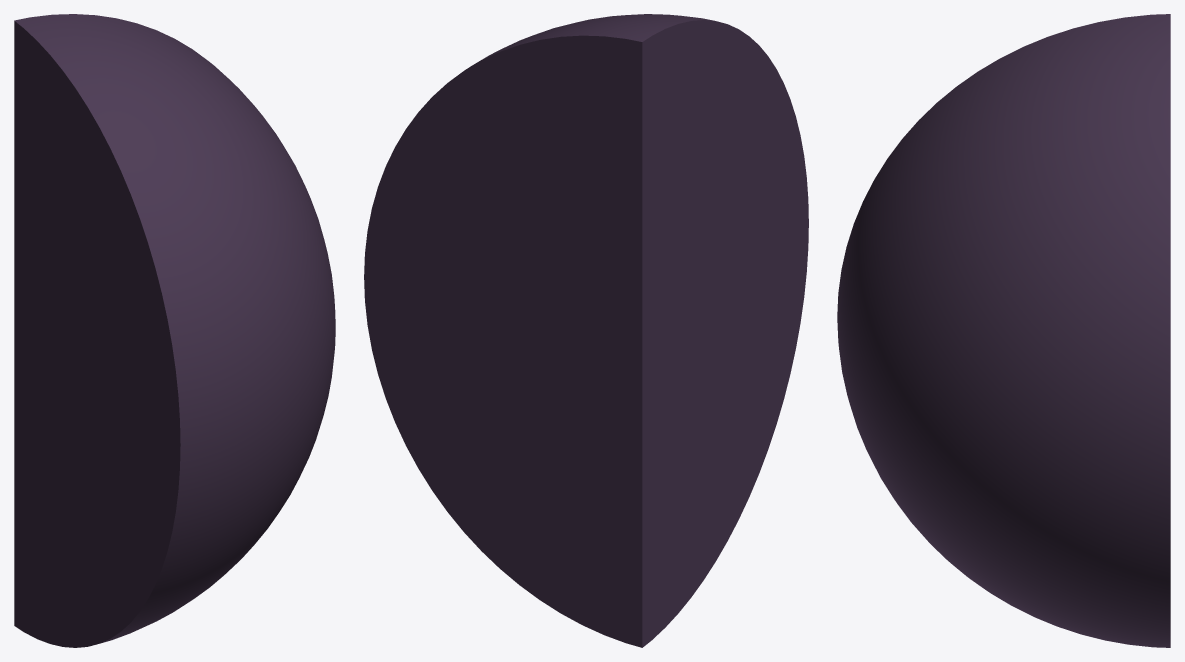
The model's file is newshu-131-f3.glb.
3 views of the same model, side by side, from view 1: azimuth 30°, elevation 25°; view 2: azimuth 150°, elevation 25°; view 3: azimuth 270°, elevation 25° (orthographic).
Parts seen in each view (by area): view 1: newshu-131-f3; view 2: newshu-131-f3; view 3: newshu-131-f3.
Part boxes in pixels (bbox=[...]): newshu-131-f3: bbox=[14, 14, 335, 647]; newshu-131-f3: bbox=[364, 14, 808, 647]; newshu-131-f3: bbox=[837, 14, 1170, 647].
Size of the model in its own units: 1.84 by 3.83 by 1.91.
